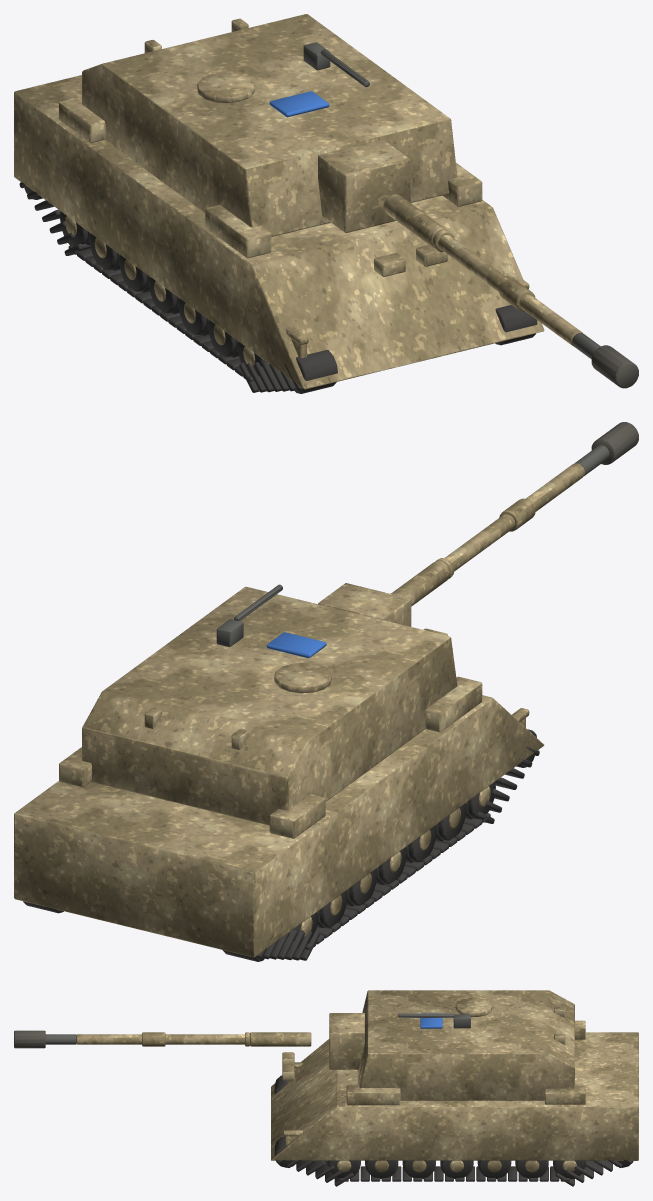
File: art_e4_us_sph_LOD0.glb
3 views of the same model, one above another, from view 1: azimuth 30°, elevation 25°; view 2: azimuth 150°, elevation 25°; view 3: azimuth 270°, elevation 25° (orthographic). The views are drawn at different scales.
Visible parts, largest first — view 1: art_e4_us_sph_LOD0_body, art_e4_us_sph_LOD0_track, art_e4_us_sph_LOD0_gun, art_e4_us_sph_LOD0_deck, art_e4_us_sph_LOD0_team; view 2: art_e4_us_sph_LOD0_body, art_e4_us_sph_LOD0_track, art_e4_us_sph_LOD0_gun, art_e4_us_sph_LOD0_deck, art_e4_us_sph_LOD0_team; view 3: art_e4_us_sph_LOD0_body, art_e4_us_sph_LOD0_track, art_e4_us_sph_LOD0_gun, art_e4_us_sph_LOD0_deck.
Boxes of the visible parts, x1=… form: art_e4_us_sph_LOD0_body: x1=14, y1=14, x2=582, y2=389; art_e4_us_sph_LOD0_track: x1=19, y1=182, x2=537, y2=393; art_e4_us_sph_LOD0_gun: x1=303, y1=42, x2=600, y2=359; art_e4_us_sph_LOD0_deck: x1=591, y1=345, x2=638, y2=388; art_e4_us_sph_LOD0_team: x1=269, y1=91, x2=329, y2=117; art_e4_us_sph_LOD0_body: x1=14, y1=463, x2=584, y2=957; art_e4_us_sph_LOD0_track: x1=23, y1=729, x2=539, y2=961; art_e4_us_sph_LOD0_gun: x1=216, y1=445, x2=609, y2=647; art_e4_us_sph_LOD0_deck: x1=591, y1=422, x2=638, y2=464; art_e4_us_sph_LOD0_team: x1=266, y1=632, x2=326, y2=658; art_e4_us_sph_LOD0_body: x1=76, y1=990, x2=638, y2=1172; art_e4_us_sph_LOD0_track: x1=274, y1=1075, x2=633, y2=1186; art_e4_us_sph_LOD0_gun: x1=45, y1=1013, x2=470, y2=1044; art_e4_us_sph_LOD0_deck: x1=14, y1=1030, x2=45, y2=1048.
Bounding box in the file's own units: 3.45 × 3.22 × 12.21.
Materials: 6 (1 with a texture image).
